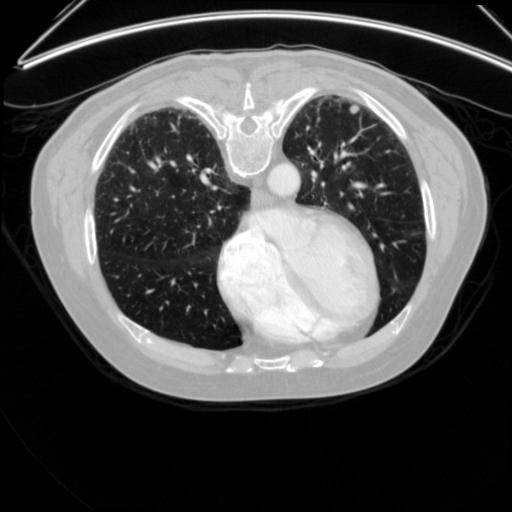nodule: (346, 103, 361, 118)
